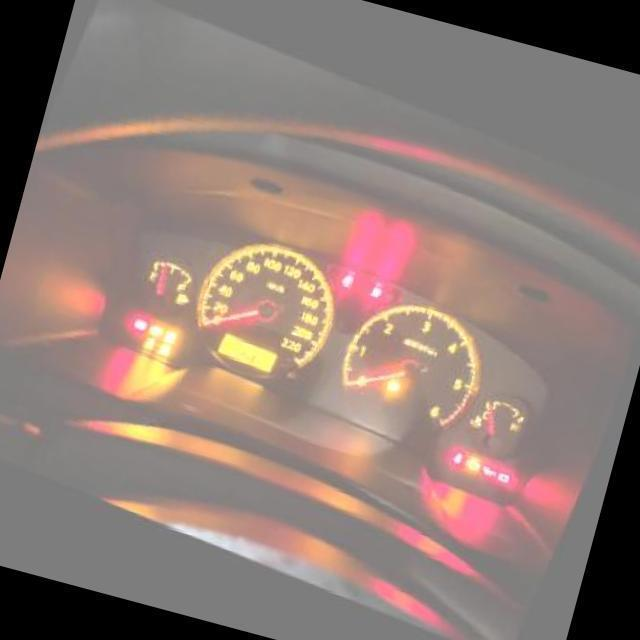Engine cooling system: (470, 411, 487, 426)
Low fuel level: (177, 290, 190, 306)
